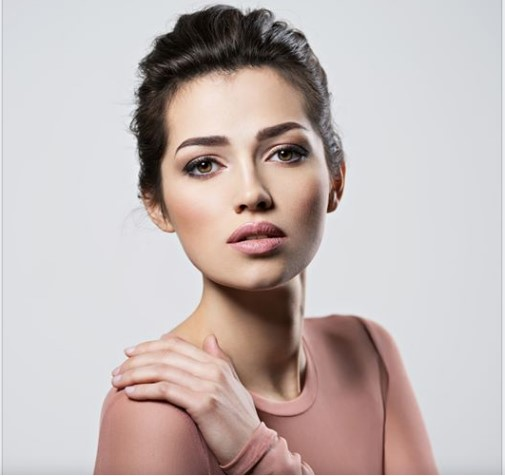face_no_mask: (135, 10, 341, 299)
